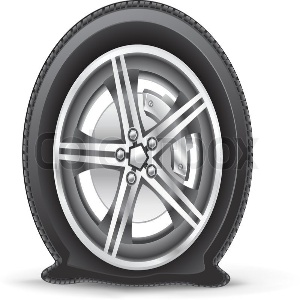tire: (19, 2, 254, 286)
